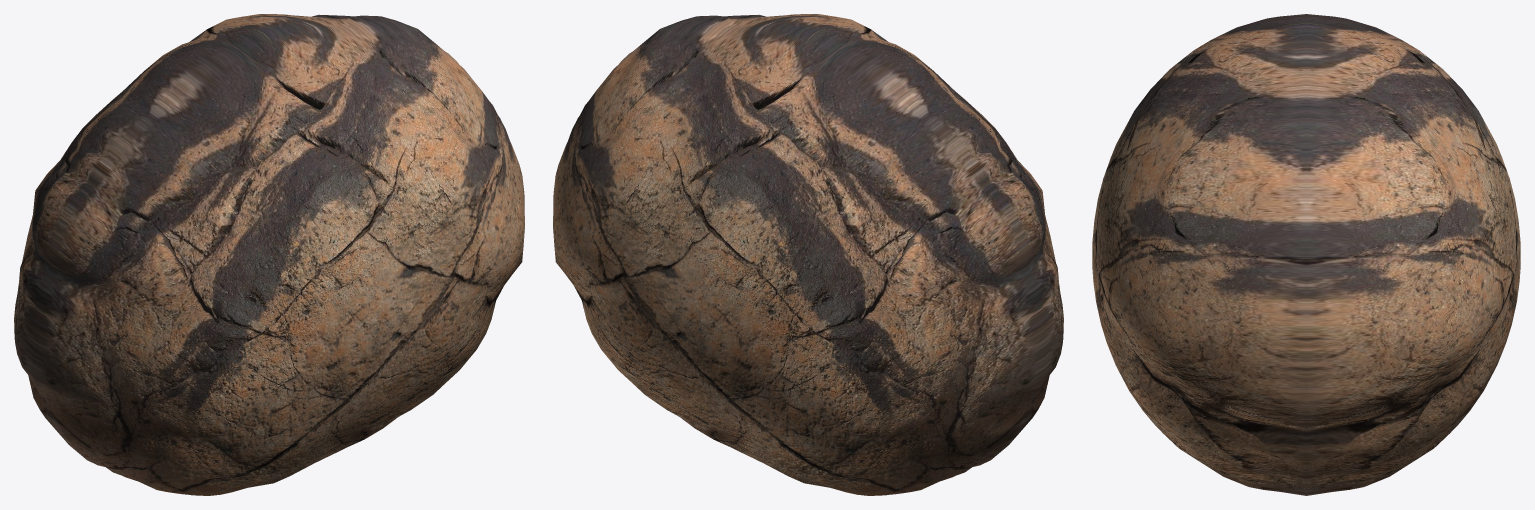
File: rocher-3.glb
3 renders of one model, left to right at view 1: azimuth 30°, elevation 25°; view 2: azimuth 150°, elevation 25°; view 3: azimuth 270°, elevation 25°, orthographic. The views are drawn at different scales.
Visible parts, largest first — view 1: rocher-3; view 2: rocher-3; view 3: rocher-3.
Boxes of the visible parts, x1=… form: rocher-3: x1=14, y1=14, x2=524, y2=495; rocher-3: x1=553, y1=14, x2=1063, y2=495; rocher-3: x1=1092, y1=14, x2=1520, y2=495.
Bounding box in the file's own units: 1.36 × 1.2 × 1.
1 material, 1 textured.
